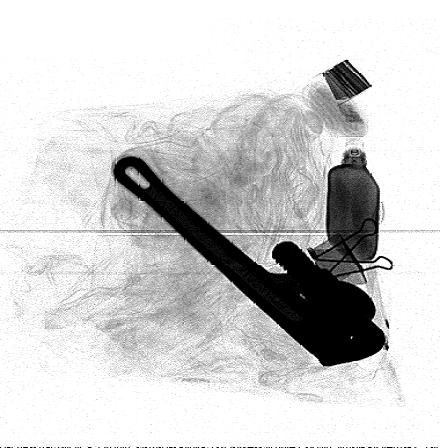Wrench: (108, 156, 388, 369)
